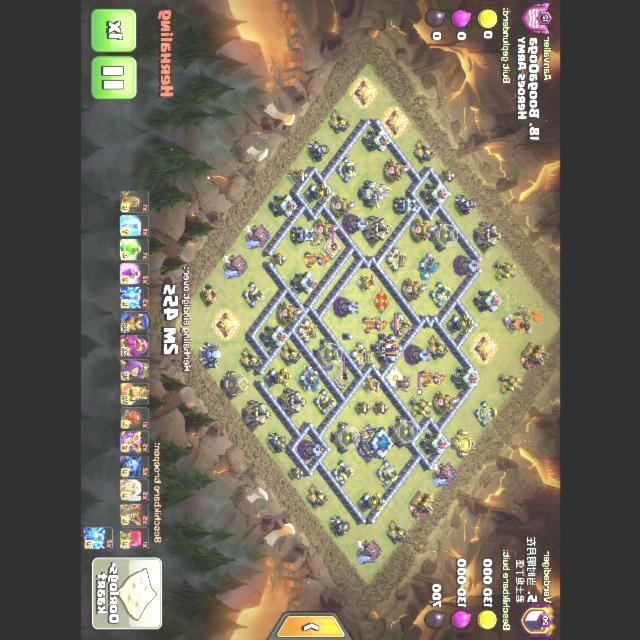AD: (303, 184, 332, 204), (263, 368, 292, 388), (446, 315, 475, 335), (356, 493, 385, 513)
AirSweeper: (356, 273, 376, 292), (361, 376, 381, 394)
BombTower: (289, 228, 316, 244), (392, 198, 419, 214)
Canon: (313, 389, 336, 415), (242, 283, 265, 309), (474, 401, 497, 427), (375, 461, 398, 487), (331, 461, 354, 487), (429, 282, 451, 308), (336, 158, 358, 184)
ClanCastle: (370, 334, 404, 363)
Eagle: (357, 181, 392, 209)
Inferno: (304, 252, 330, 268), (420, 371, 446, 387), (362, 318, 388, 334)
KingPad: (324, 237, 341, 259)
Mortar: (305, 141, 328, 163), (454, 194, 477, 216), (329, 516, 351, 538), (265, 432, 286, 454)
QueenPad: (373, 288, 391, 313)
RcPad: (334, 369, 349, 388)
Scattershot: (417, 254, 442, 282), (297, 367, 321, 393)
TH13: (355, 427, 395, 460)
WardenPad: (388, 367, 403, 388)
WizzTower: (453, 256, 480, 275), (298, 441, 324, 460), (405, 345, 431, 364), (342, 215, 368, 234), (333, 298, 359, 317)
Xbow: (385, 247, 410, 273), (350, 342, 374, 368), (296, 318, 318, 344), (390, 312, 412, 337)
